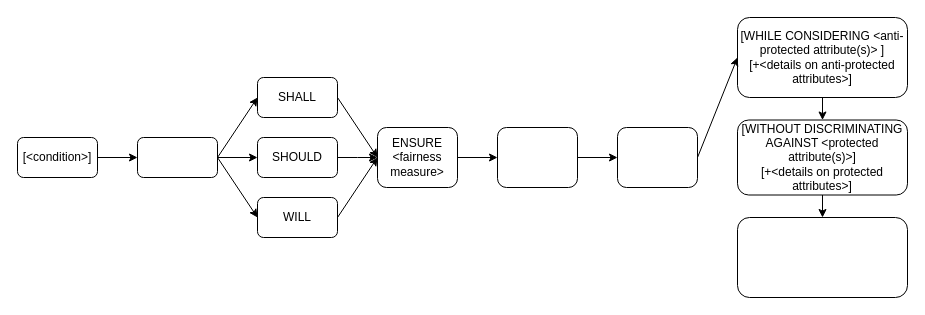
The diagram is 925 pixels wide and 315 high, and some of its shapes have lost their labels. The centre of each missing label's shape, as x and y in pixels:
<system>: (x=177, y=157)
[AND PROXY(IES) <proxy(ies)>] [+<details on proxy(ies>]: (x=822, y=257)
AMONG <data subjects>: (x=657, y=157)
BY APPLYING <fairness techniques>: (x=537, y=157)
